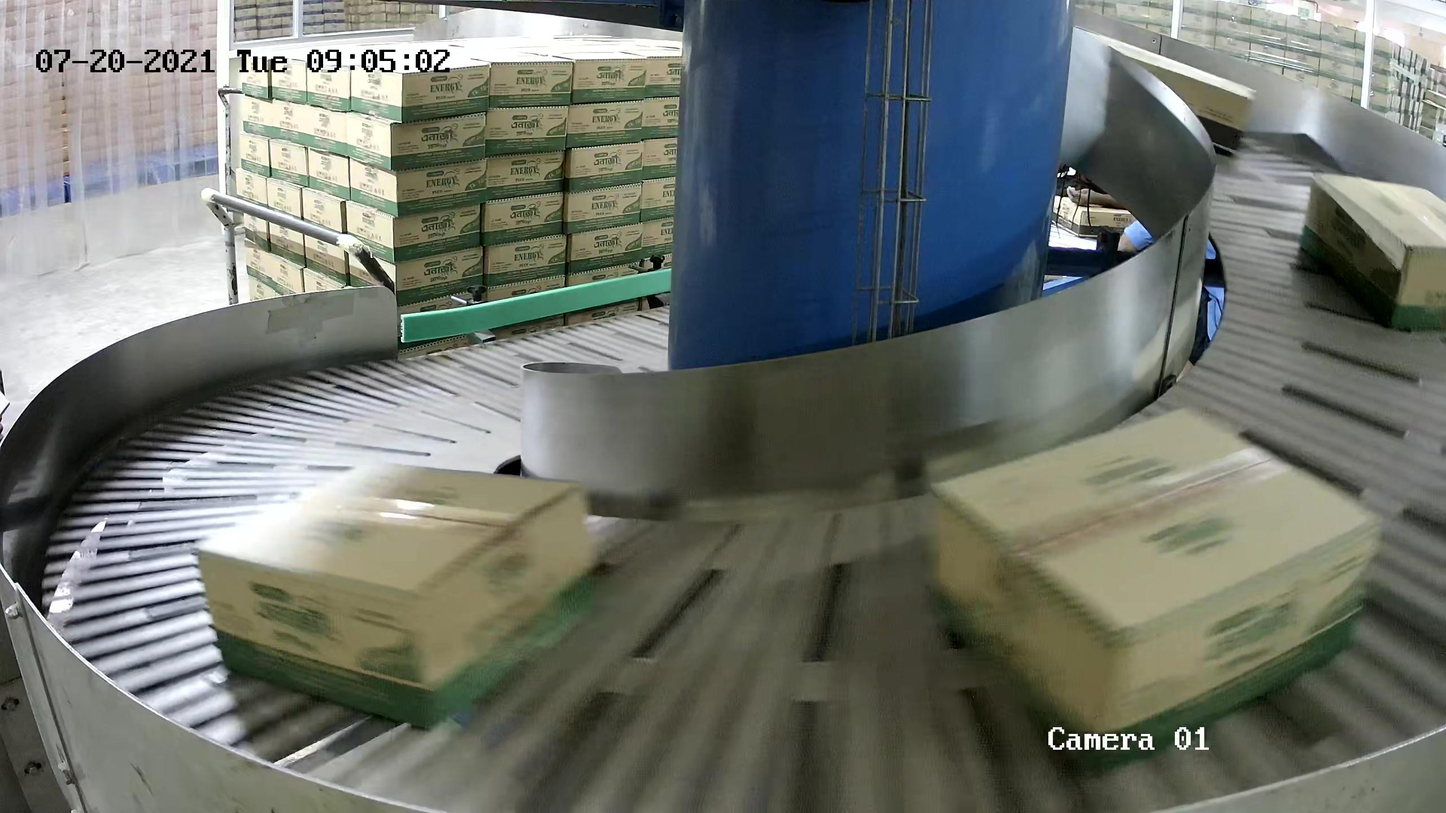Box: (928, 403, 1385, 775), (192, 458, 604, 729), (1073, 24, 1258, 157), (1299, 171, 1446, 332)
